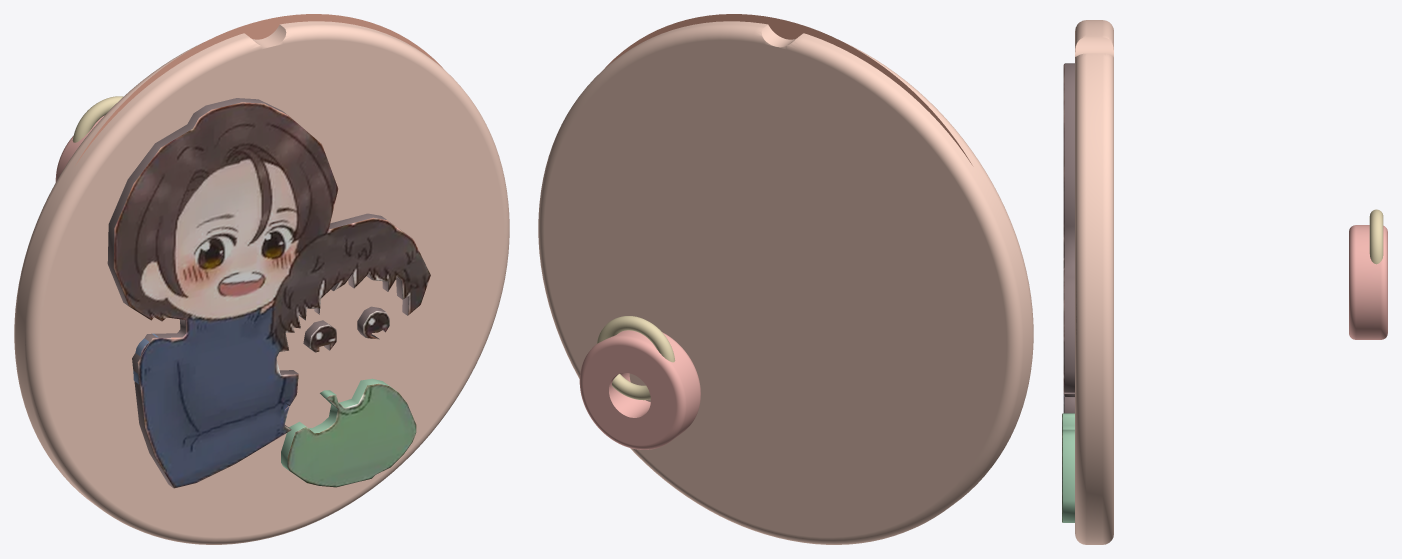
File: oyako.glb
The picture shows the model from 3 angles, left to right: view 1: azimuth 30°, elevation 25°; view 2: azimuth 150°, elevation 25°; view 3: azimuth 270°, elevation 25°; orthographic projection. The views are drawn at different scales.
Visible parts, largest first — view 1: oyako / domed solid body, oyako / raised hair 1, oyako / raised leaf 1, oyako / original fine lines on front, oyako / display-only small connector, oyako / raised hair 2, oyako / raised hair 3; view 2: oyako / domed solid body, oyako / integrated eyelet, oyako / original fine lines on front, oyako / display-only small connector; view 3: oyako / domed solid body, oyako / raised hair 1, oyako / integrated eyelet, oyako / raised leaf 1, oyako / display-only small connector.
Part boxes in pixels (bbox=[...]): oyako / domed solid body: bbox=[14, 21, 509, 544]; oyako / raised hair 1: bbox=[107, 98, 430, 488]; oyako / raised leaf 1: bbox=[281, 378, 416, 487]; oyako / original fine lines on front: bbox=[75, 14, 443, 165]; oyako / display-only small connector: bbox=[72, 96, 123, 142]; oyako / raised hair 2: bbox=[303, 320, 336, 352]; oyako / raised hair 3: bbox=[357, 306, 389, 339]; oyako / domed solid body: bbox=[538, 21, 1033, 544]; oyako / integrated eyelet: bbox=[579, 330, 700, 449]; oyako / original fine lines on front: bbox=[604, 14, 972, 165]; oyako / display-only small connector: bbox=[596, 316, 675, 400]; oyako / domed solid body: bbox=[1075, 20, 1113, 544]; oyako / raised hair 1: bbox=[1063, 63, 1074, 413]; oyako / integrated eyelet: bbox=[1349, 225, 1387, 339]; oyako / raised leaf 1: bbox=[1062, 413, 1074, 522]; oyako / display-only small connector: bbox=[1369, 209, 1383, 264].
Bounding box in the file's own units: 48.4 × 49.13 × 30.05.
Materials: 7 (1 with a texture image).
